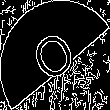O_SE: (26, 22, 84, 88)
